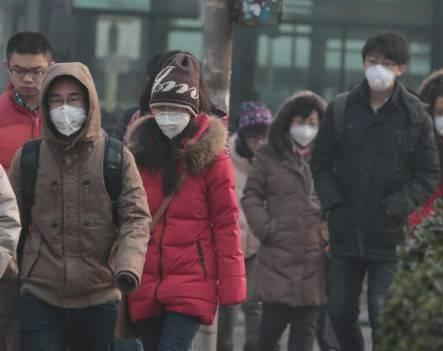person: (4, 60, 154, 351), (309, 33, 443, 351), (112, 50, 247, 350), (240, 90, 350, 351), (1, 29, 66, 345), (212, 98, 277, 351)
